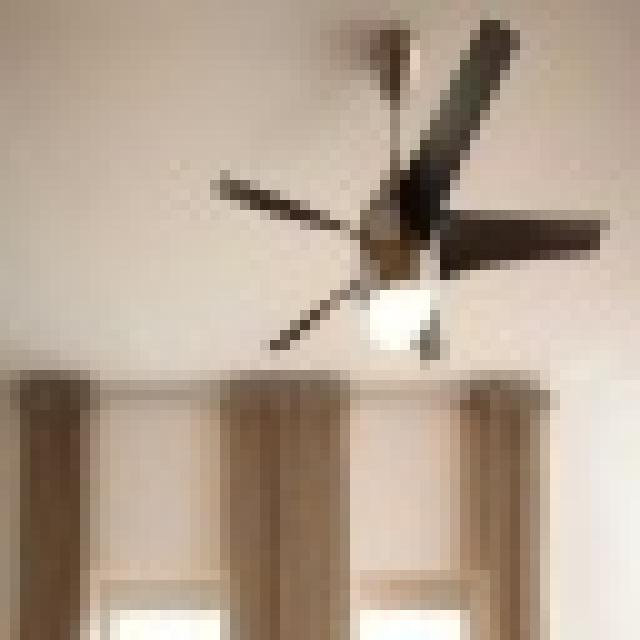Bulb: (220, 40, 636, 354)
